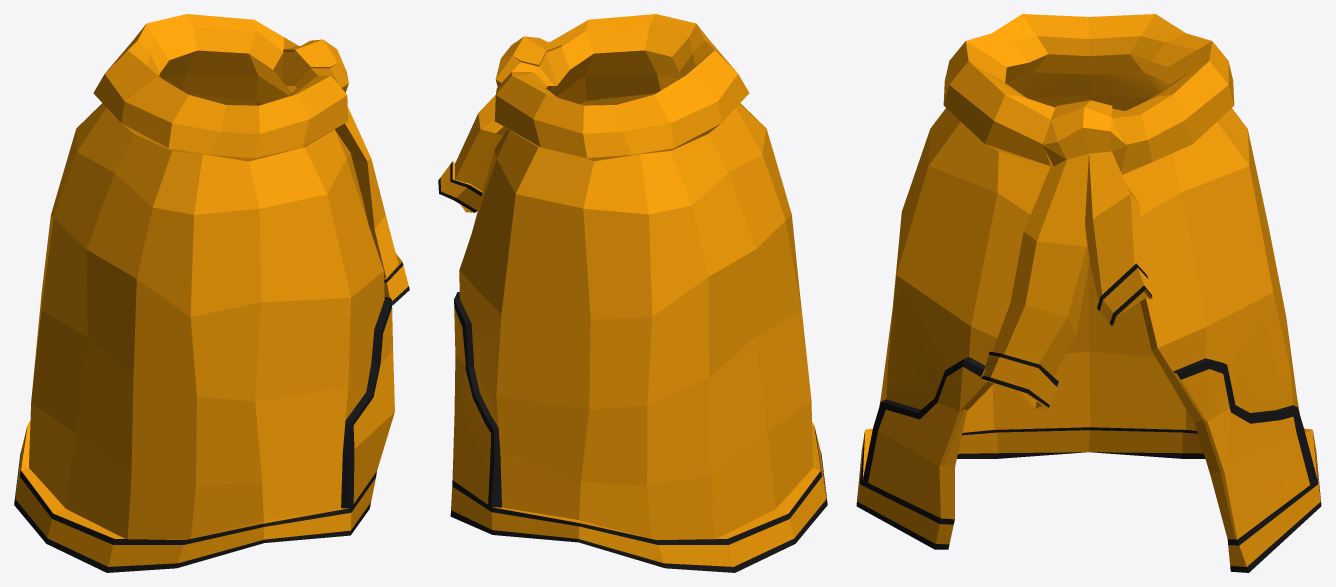
The model's file is Casacofbx.fbx.
3 renders of one model, left to right at view 1: azimuth 30°, elevation 25°; view 2: azimuth 150°, elevation 25°; view 3: azimuth 270°, elevation 25°, orthographic. The views are drawn at different scales.
Parts seen in each view (by area): view 1: Casaco; view 2: Casaco; view 3: Casaco.
Boxes of the visible parts, left/top/right/bottom form: Casaco: left=14, top=14, right=409, bottom=572; Casaco: left=438, top=14, right=827, bottom=572; Casaco: left=856, top=14, right=1321, bottom=572.
Bounding box in the file's own units: 229 × 294 × 253.
